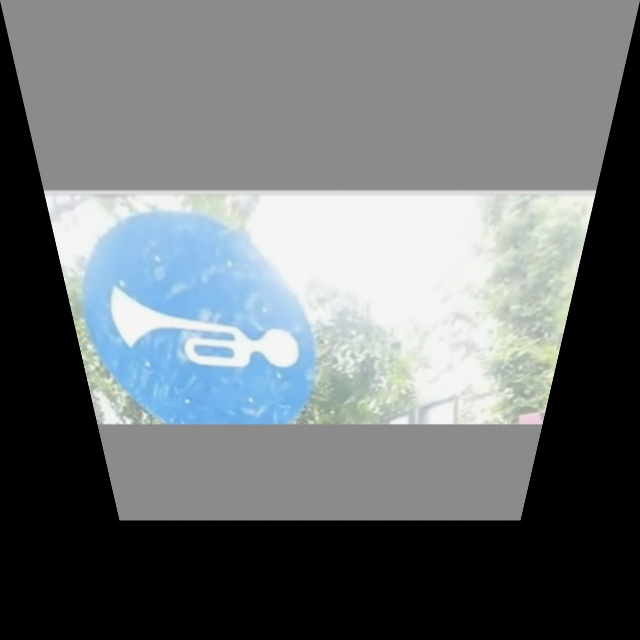Compulsory_Sound_Horn: (74, 216, 321, 419)
